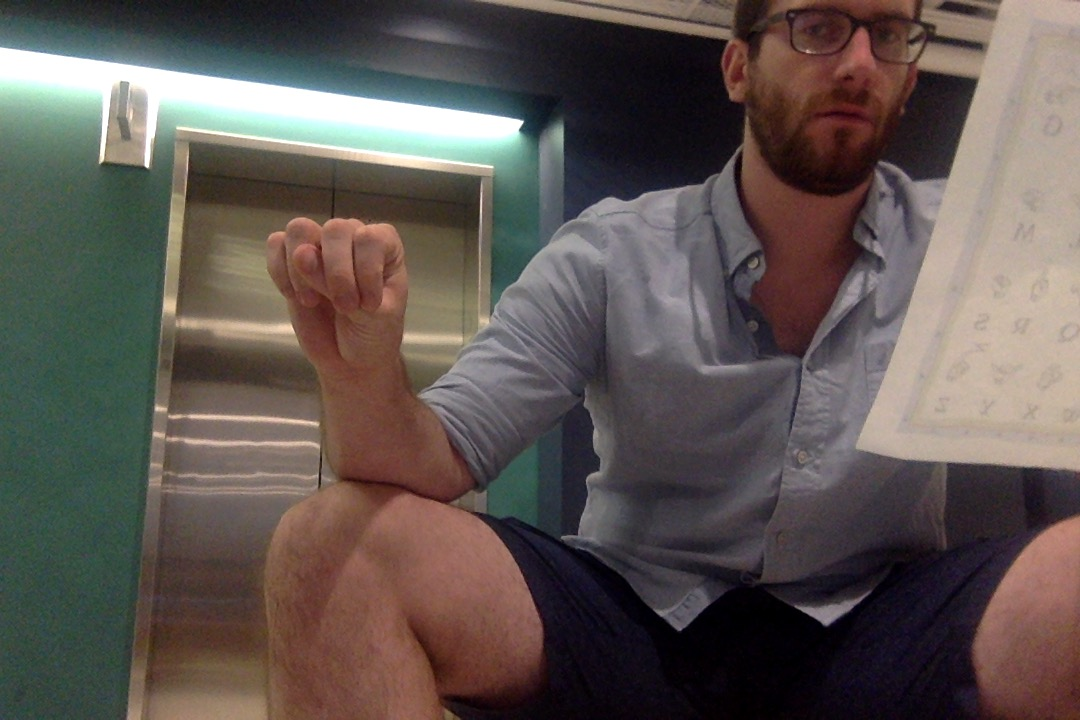n: (262, 214, 413, 359)
